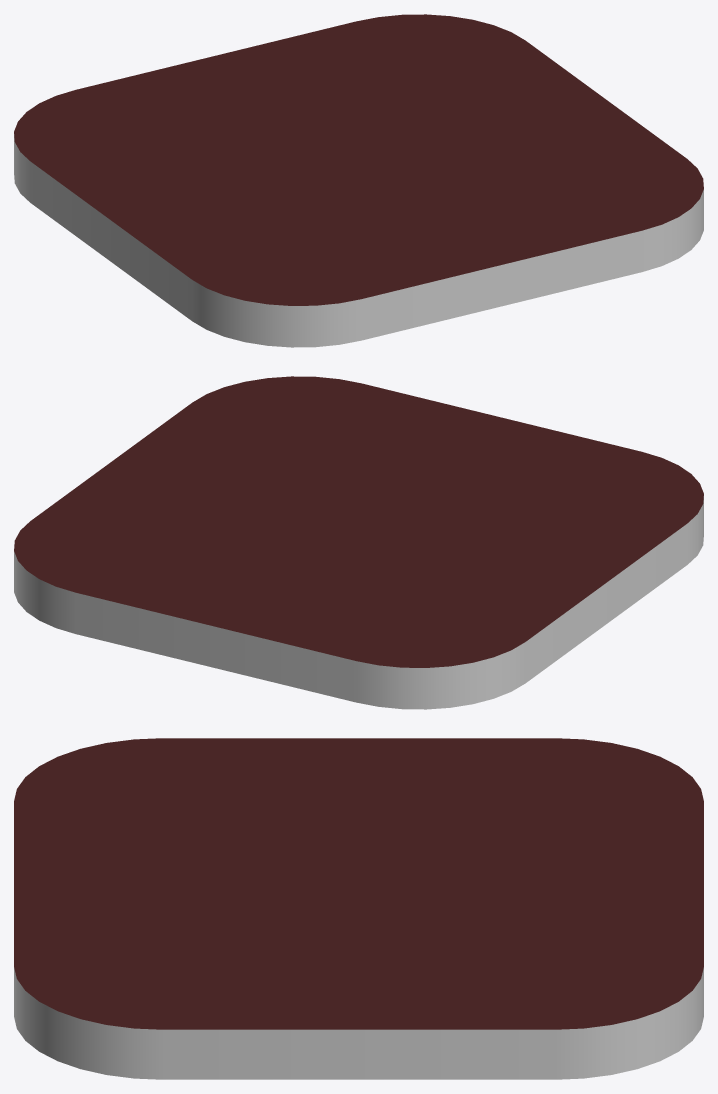
File: CubeForHighFloorSmooth_01.fbx
The picture shows the model from 3 angles, top to bottom: view 1: azimuth 30°, elevation 25°; view 2: azimuth 150°, elevation 25°; view 3: azimuth 270°, elevation 25°; orthographic projection. The views are drawn at different scales.
Visible parts, largest first — view 1: Cube; view 2: Cube; view 3: Cube.
Boxes of the visible parts, x1,y1,x2,y2 form: Cube: (14, 14, 703, 347); Cube: (14, 376, 703, 709); Cube: (14, 738, 703, 1079).
Size of the model in its own units: 1000 by 80 by 1000.
